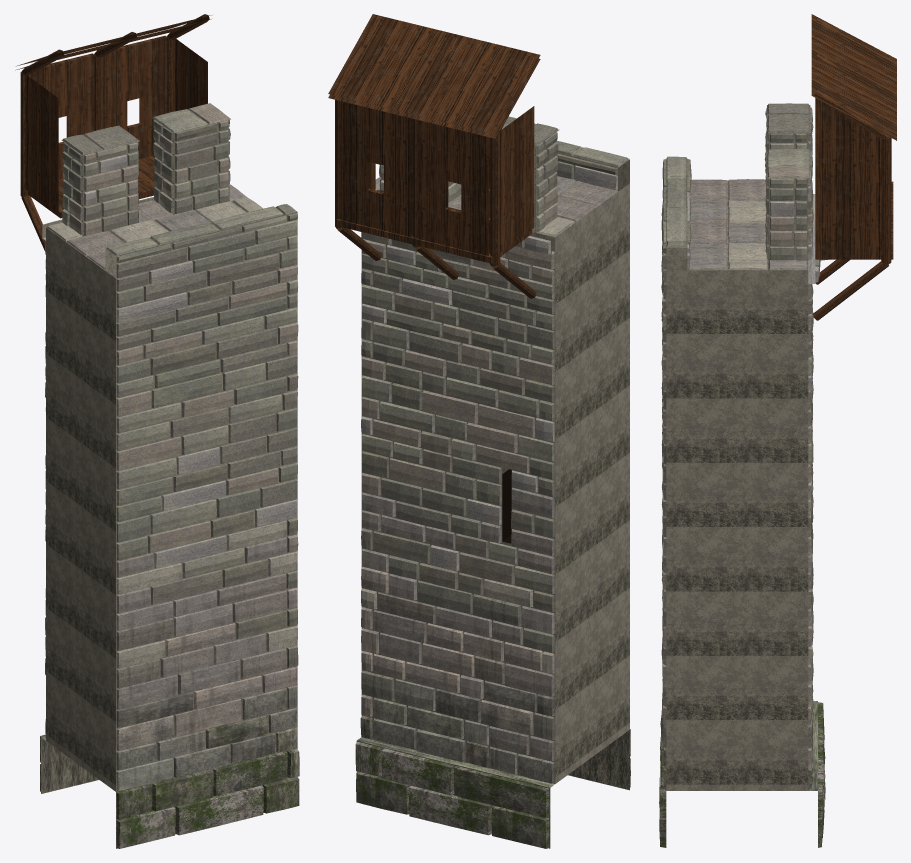
Rendered from town_wall_tower.glb.
3 renders of one model, left to right at view 1: azimuth 30°, elevation 25°; view 2: azimuth 150°, elevation 25°; view 3: azimuth 270°, elevation 25°, orthographic. The views are drawn at different scales.
Parts seen in each view (by area): view 1: town_wall_tower; view 2: town_wall_tower; view 3: town_wall_tower.
Boxes of the visible parts, x1=… form: town_wall_tower: x1=15, y1=14, x2=299, y2=848; town_wall_tower: x1=328, y1=14, x2=630, y2=848; town_wall_tower: x1=659, y1=14, x2=896, y2=847.
Bounding box in the file's own units: 3 × 11.67 × 3.35.
Materials: 3 (3 with a texture image).
